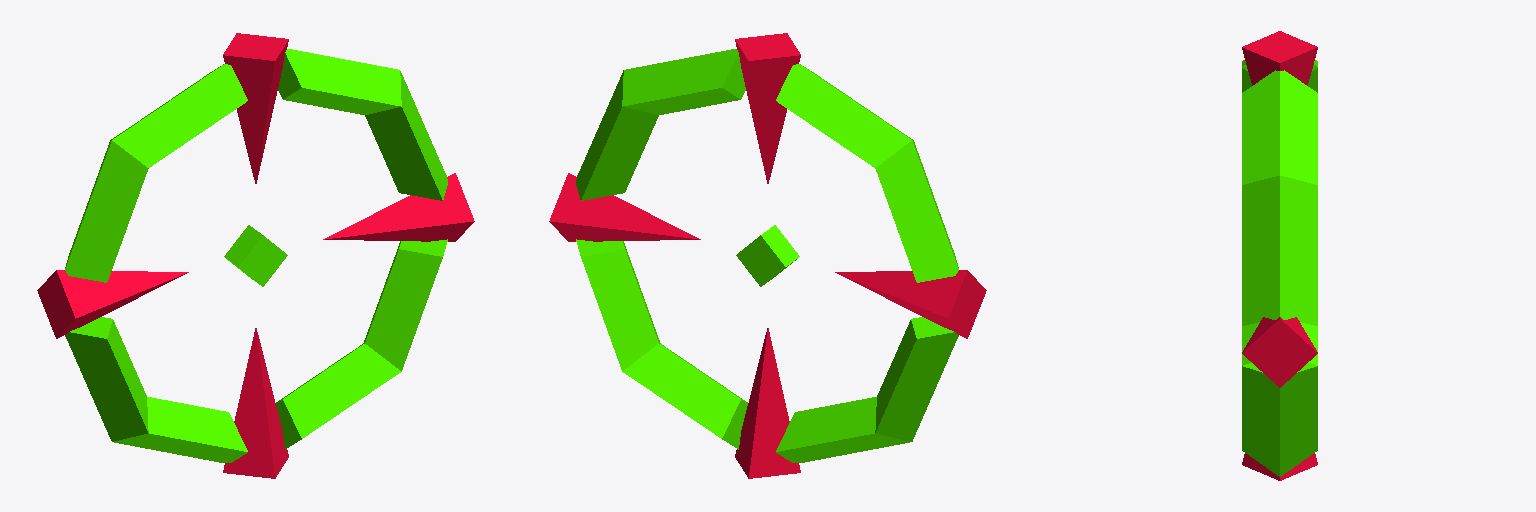
File: Reticle.obj
3 renders of one model, left to right at view 1: azimuth 30°, elevation 25°; view 2: azimuth 150°, elevation 25°; view 3: azimuth 270°, elevation 25°, orthographic.
Visible parts, largest first — view 1: Reticle; view 2: Reticle; view 3: Reticle.
Part boxes in pixels (bbox=[...]): Reticle: bbox=[37, 33, 474, 478]; Reticle: bbox=[549, 33, 986, 478]; Reticle: bbox=[1242, 31, 1317, 480].
Bounding box in the file's own units: 3 × 3 × 0.5.